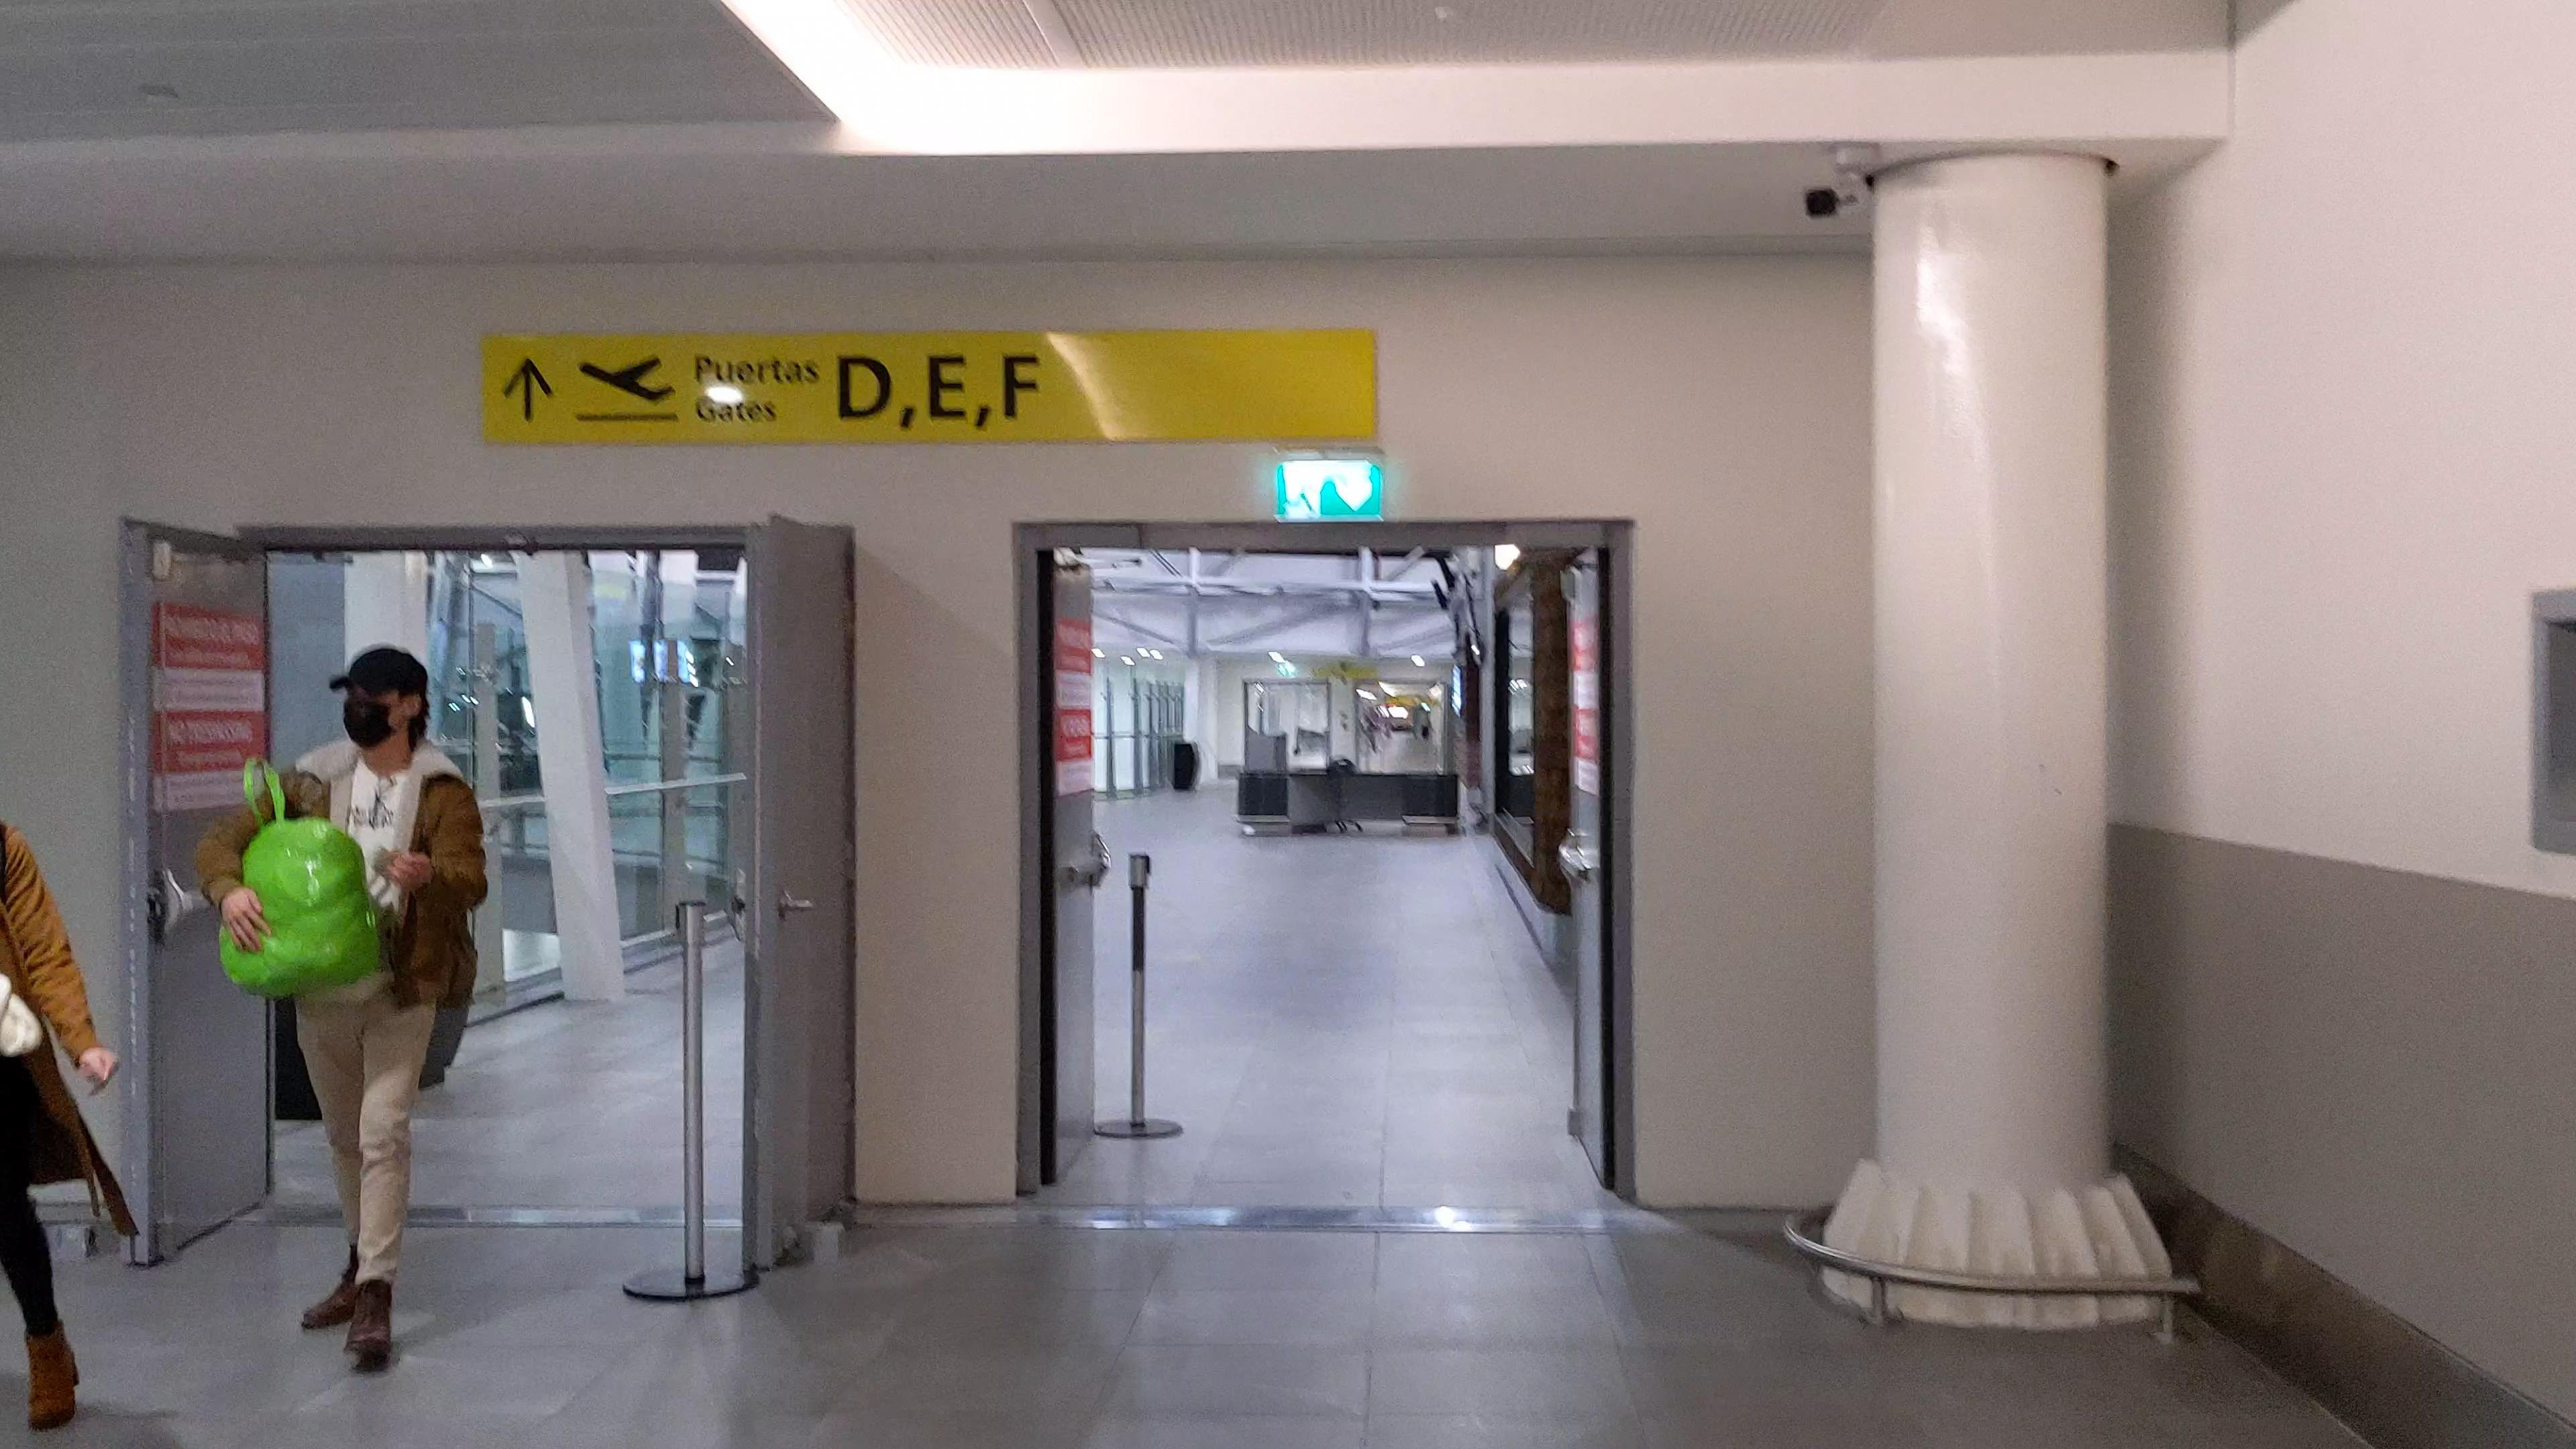airplane symbol: (572, 350, 680, 411)
emergency exit: (1282, 465, 1322, 519)
no trespassing: (1046, 617, 1097, 798)
thin up arrow: (500, 352, 559, 427)
